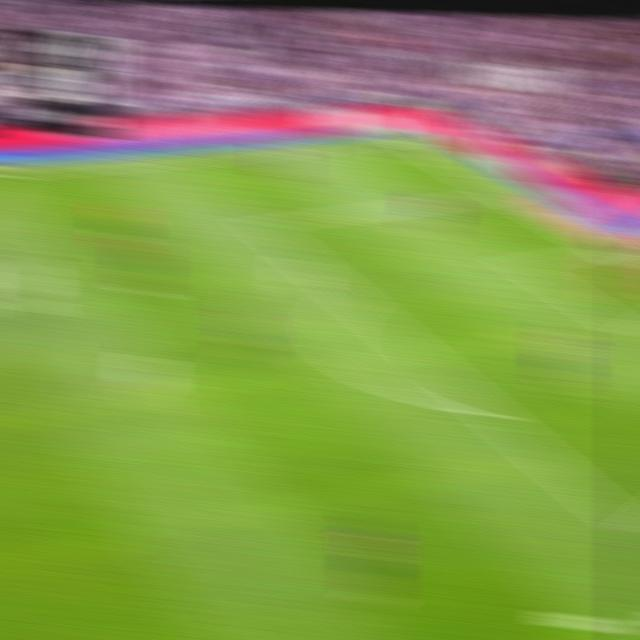bigarea_top_inner: (247, 213, 278, 235)
bigarea_top_outter: (485, 184, 518, 202)
bottom_arc_area_intersection: (474, 400, 510, 426)
corner: (381, 133, 412, 146)
smallarea_top_inner: (505, 251, 538, 275)
top_arc_area_intersection: (336, 286, 369, 310)
